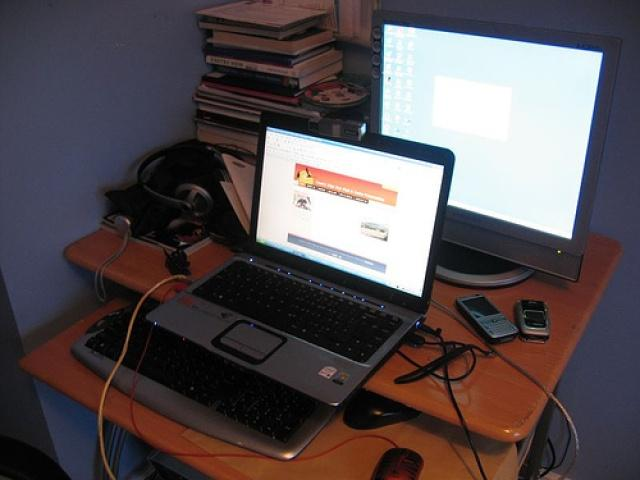AIO PC-Monitor-TV: (367, 9, 624, 289)
